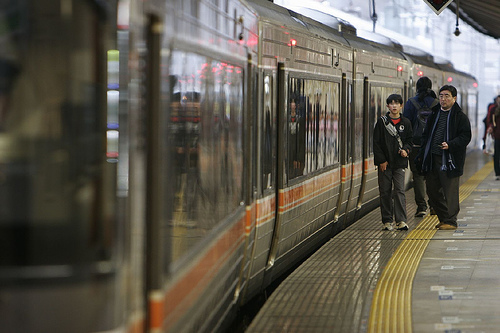without_mask: (385, 96, 403, 115), (438, 91, 456, 109)
